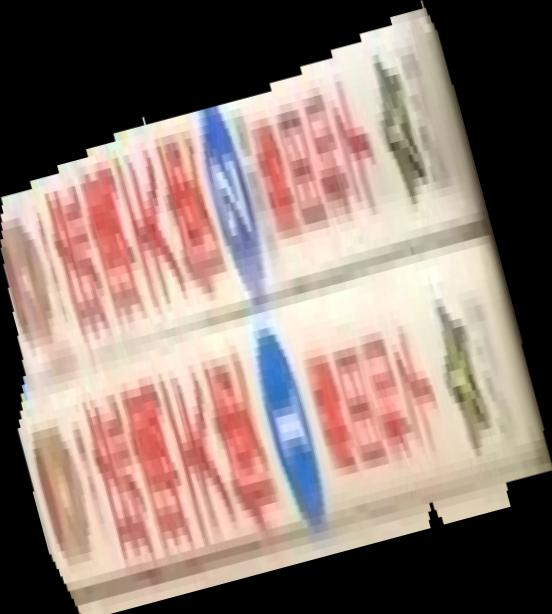flat: (1, 1, 552, 614)
